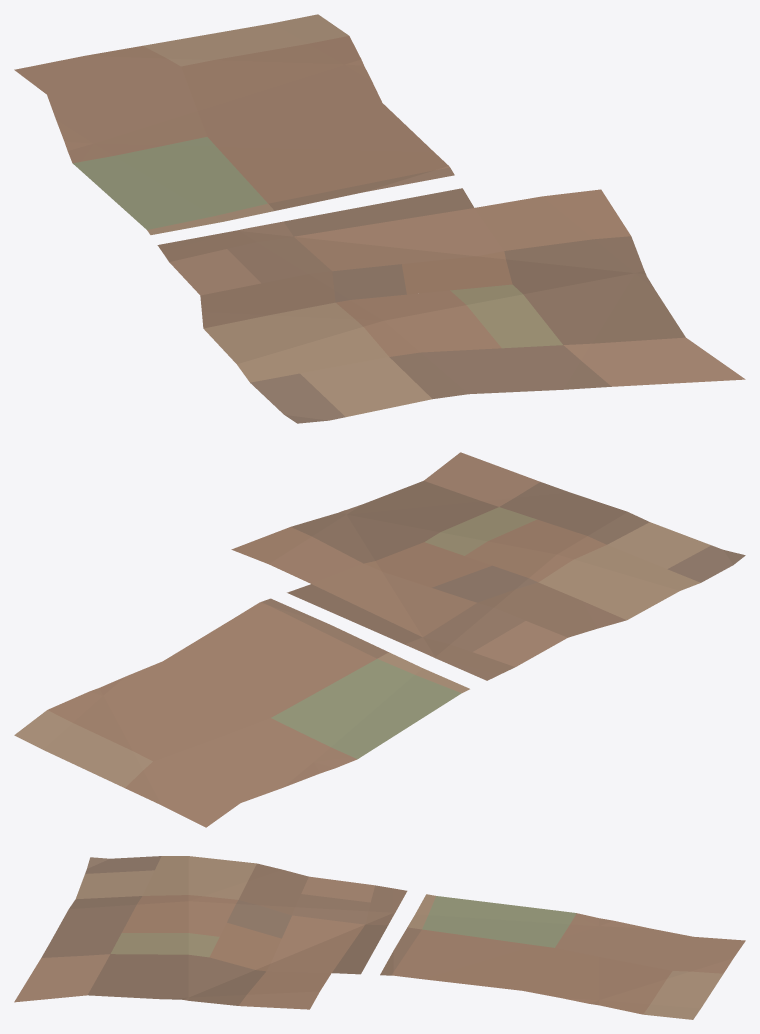
File: farm_-5_19_soil.glb
3 views of the same model, one above another, from view 1: azimuth 30°, elevation 25°; view 2: azimuth 150°, elevation 25°; view 3: azimuth 270°, elevation 25° (orthographic). The views are drawn at different scales.
Visible parts, largest first — view 1: geometry_0; view 2: geometry_0; view 3: geometry_0.
Part boxes in pixels (box(x1,y1,x2,y2)): geometry_0: box(14, 14, 745, 423); geometry_0: box(14, 452, 745, 827); geometry_0: box(14, 856, 745, 1019).
Size of the model in its own units: 146 by 13.27 by 286.
